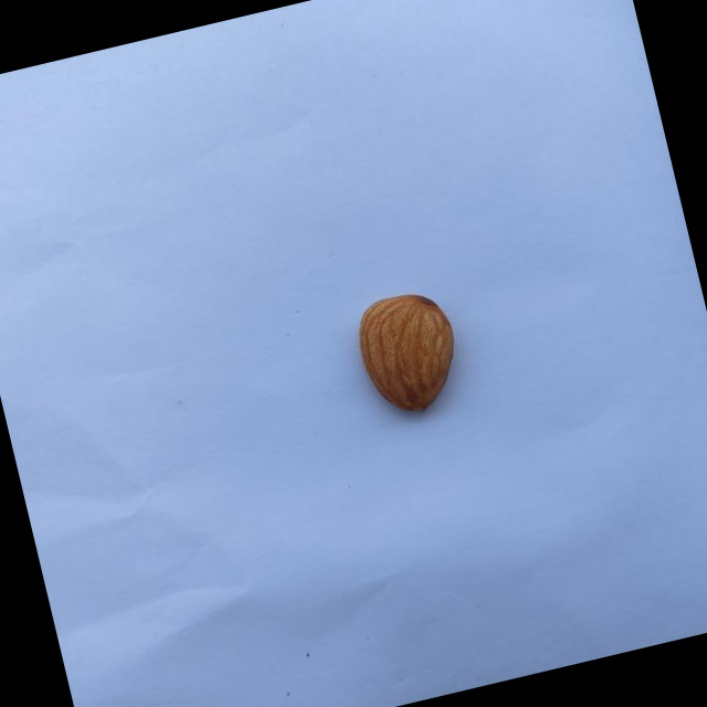grade1: (338, 277, 478, 433)
